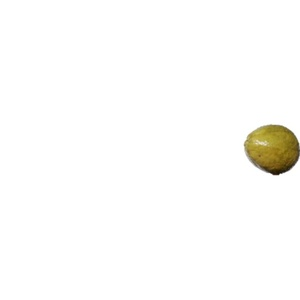goiaba: (240, 120, 297, 180)
